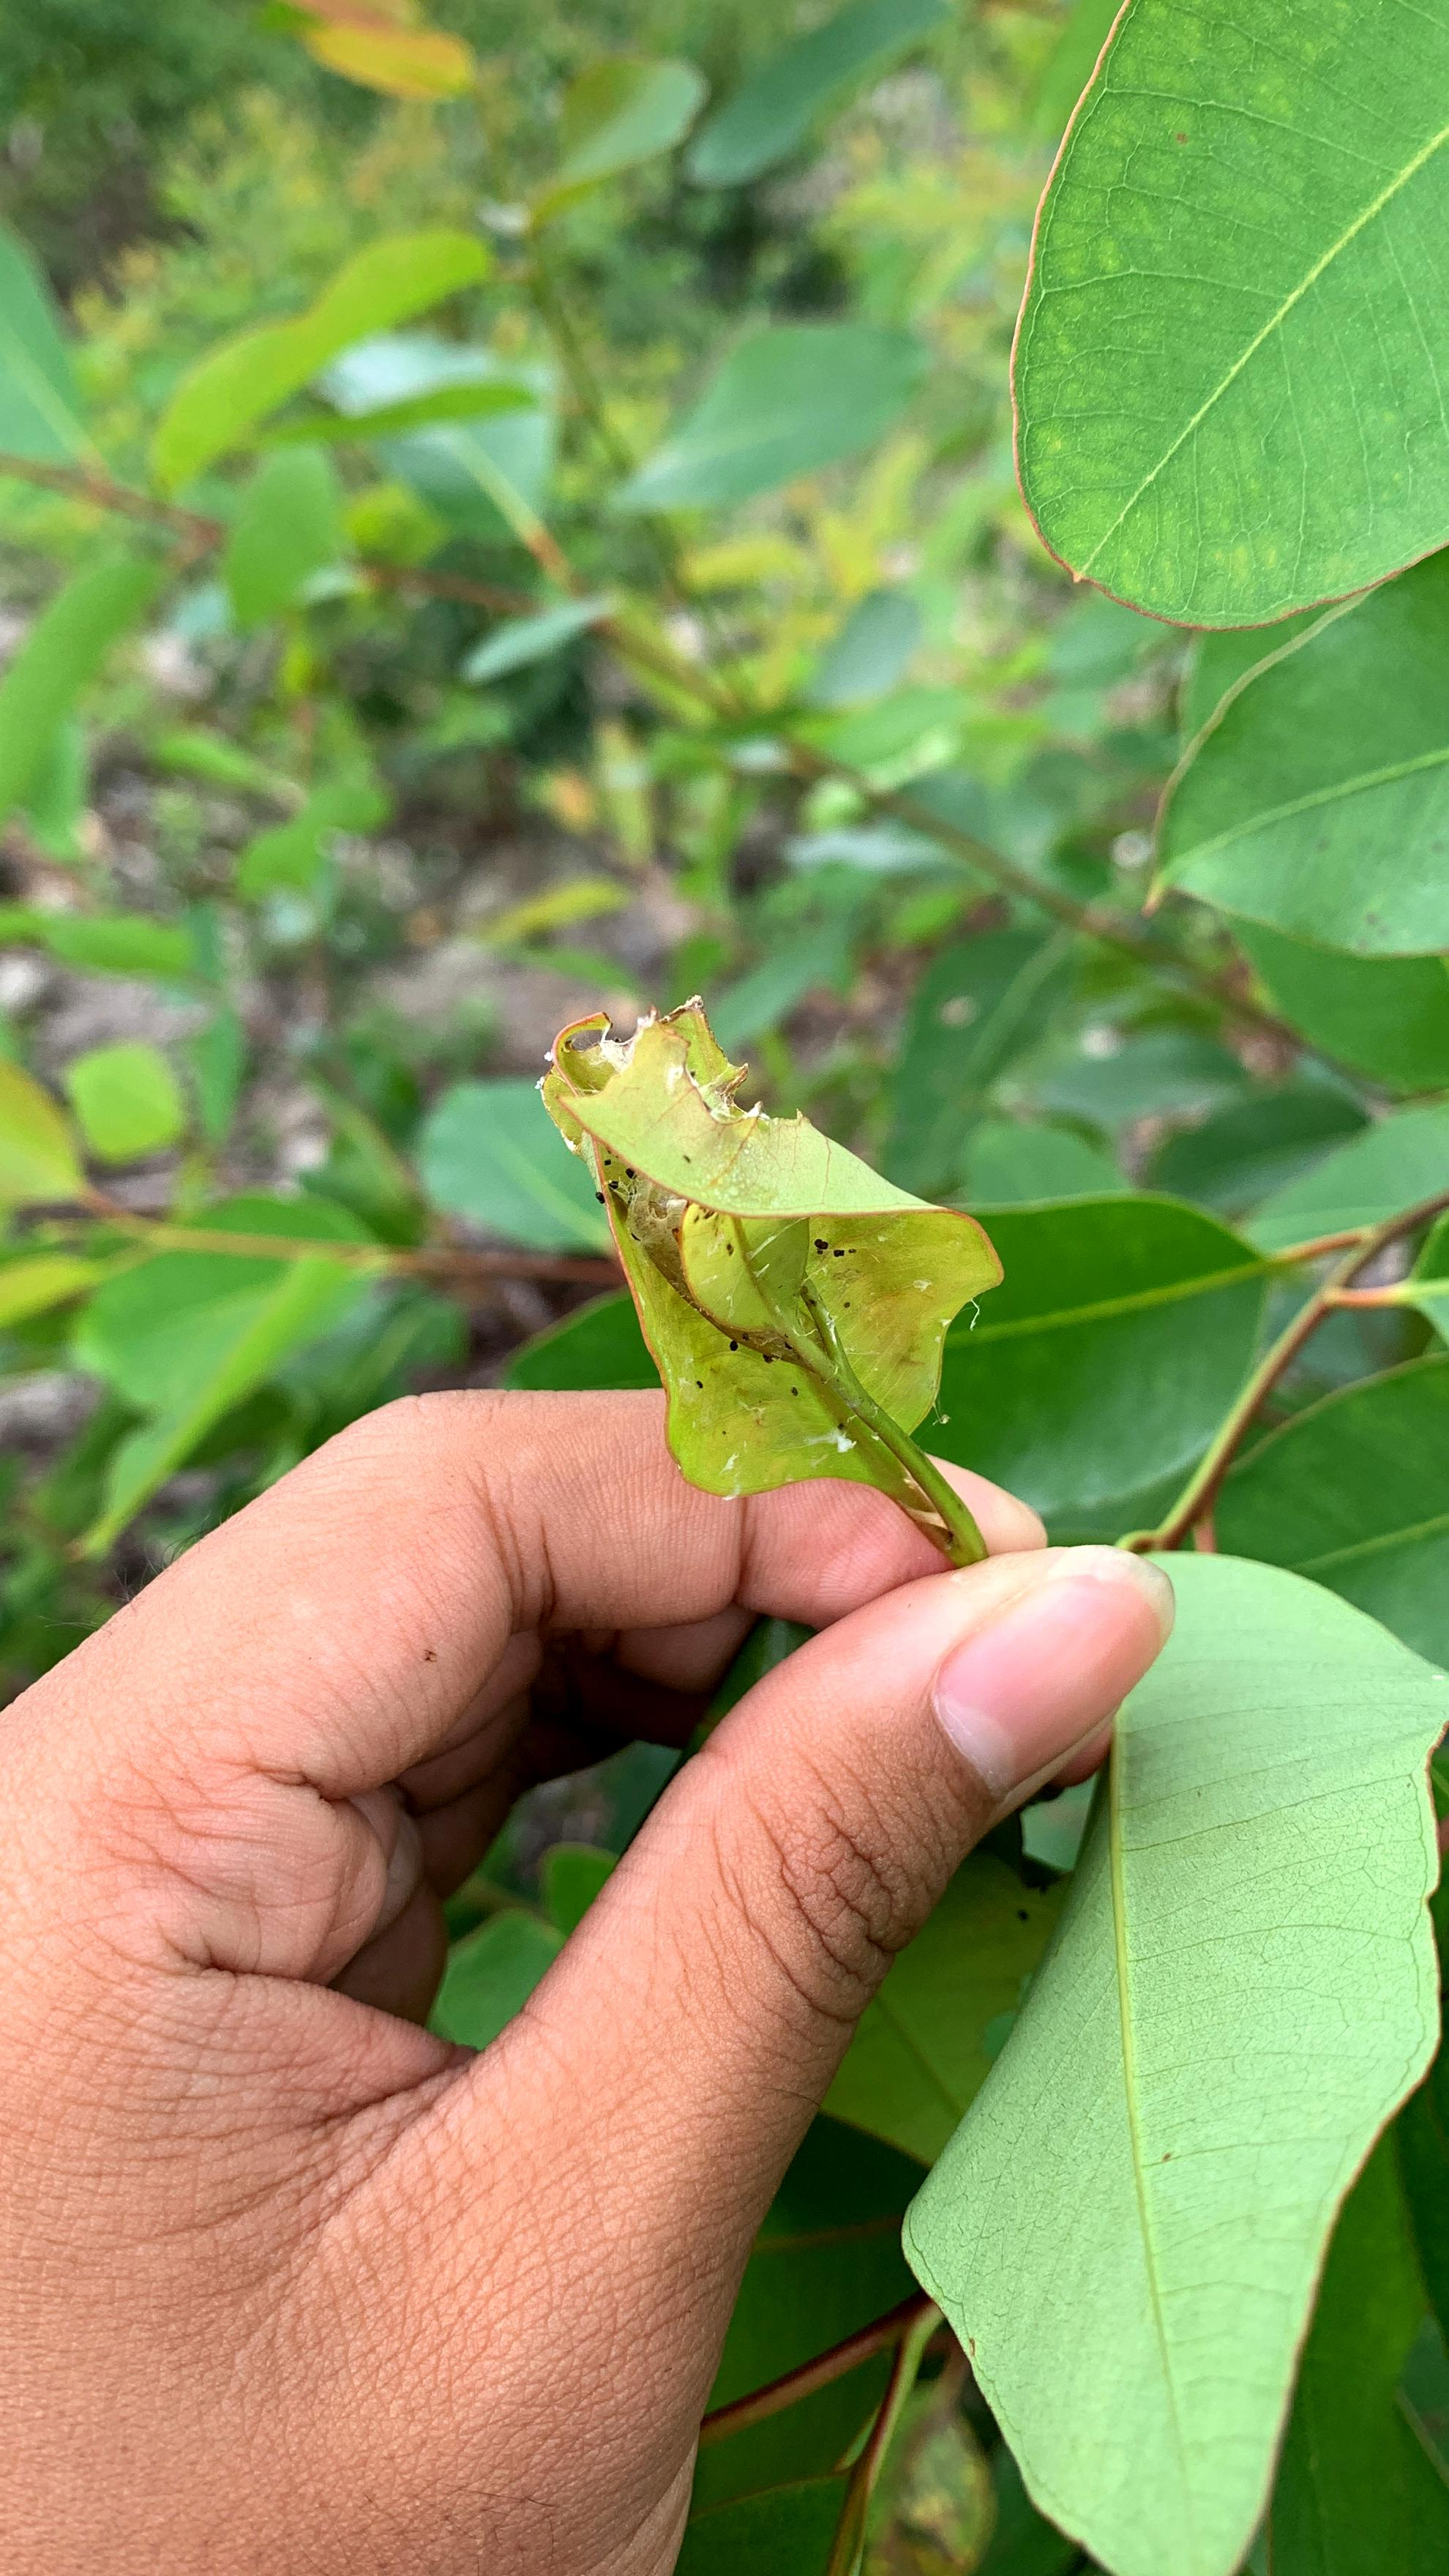Leaf Roller - Leaf: (459, 926, 1048, 1560)
